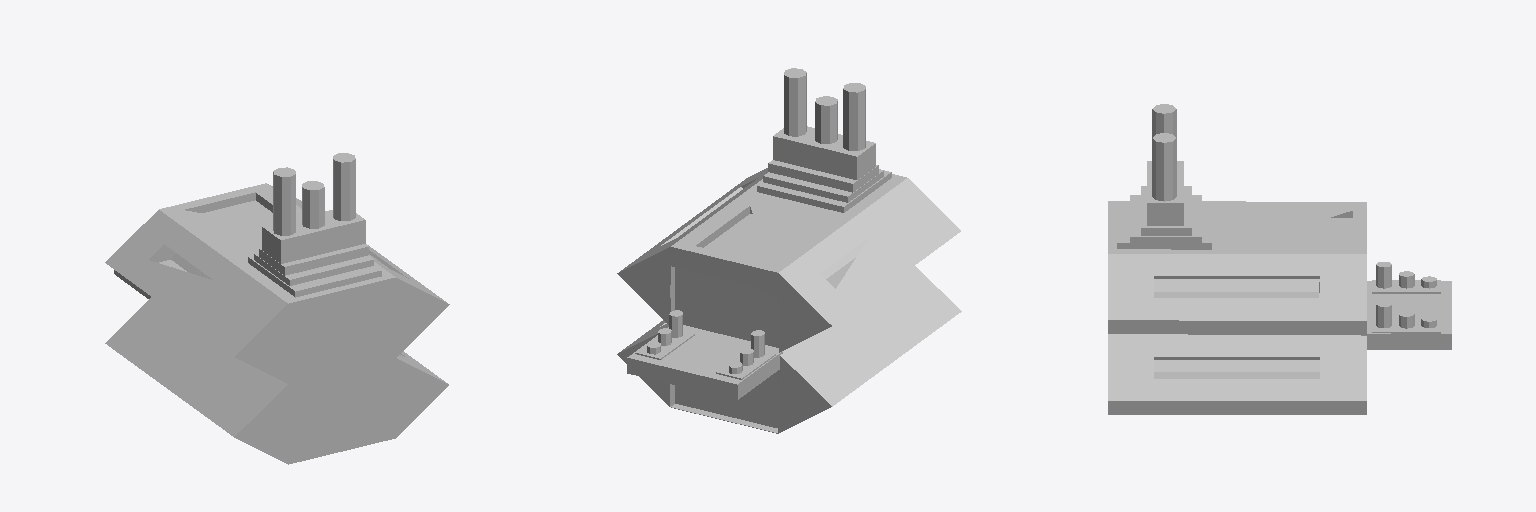
File: Stage 2 ship hanger OBJ.obj
3 renders of one model, left to right at view 1: azimuth 30°, elevation 25°; view 2: azimuth 150°, elevation 25°; view 3: azimuth 270°, elevation 25°, orthographic.
Visible parts, largest first — view 1: pCube7, pasted__pCylinder4 group11, group14 pasted__pasted__pasted__pasted__pCube4 pasted__pasted__p, group14 pasted__pasted__pasted__pCylinder5 pasted__pasted__group, pasted__pCube4 group14, group14 pasted__pasted__pasted__pCube4 pasted__pasted__group5 pa, group14 pasted__pasted__pCube4 pasted__group5, group14 pasted__pasted__pCylinder5 pasted__group10; view 2: pCube7, pasted__pCylinder4 group11, pCube5, group14 pasted__pasted__pasted__pasted__pCube4 pasted__pasted__p, group14 pasted__pasted__pasted__pCylinder5 pasted__pasted__group, group14 pasted__pasted__pasted__pCube4 pasted__pasted__group5 pa, pasted__pCube4 group14, group14 pasted__pasted__pCube4 pasted__group5, group14 pasted__pasted__pCylinder5 pasted__group10; view 3: pCube7, pasted__pCylinder4 group11, pCube5, group14 pasted__pasted__pasted__pCylinder5 pasted__pasted__group, pasted__pCube4 group14, group14 pasted__pasted__pasted__pasted__pCube4 pasted__pasted__p, group14 pasted__pasted__pCube4 pasted__group5, group14 pasted__pasted__pasted__pCube4 pasted__pasted__group5 pa, polySurface7 polySurface19, pasted__polySurface7 group13 pasted__polySurface19.
Part boxes in pixels (bbox=[...]): pCube7: bbox=[105, 183, 449, 383]; pasted__pCylinder4 group11: bbox=[105, 297, 448, 464]; group14 pasted__pasted__pasted__pasted__pCube4 pasted__pasted__p: bbox=[262, 210, 365, 263]; group14 pasted__pasted__pasted__pCylinder5 pasted__pasted__group: bbox=[273, 153, 355, 235]; pasted__pCube4 group14: bbox=[248, 255, 381, 297]; group14 pasted__pasted__pasted__pCube4 pasted__pasted__group5 pa: bbox=[259, 244, 368, 275]; group14 pasted__pasted__pCube4 pasted__group5: bbox=[254, 253, 373, 285]; group14 pasted__pasted__pCylinder5 pasted__group10: bbox=[302, 181, 324, 228]; pCube7: bbox=[617, 168, 960, 352]; pasted__pCylinder4 group11: bbox=[617, 266, 961, 433]; pCube5: bbox=[627, 327, 782, 399]; group14 pasted__pasted__pasted__pasted__pCube4 pasted__pasted__p: bbox=[773, 126, 875, 179]; group14 pasted__pasted__pasted__pCylinder5 pasted__pasted__group: bbox=[784, 68, 865, 150]; group14 pasted__pasted__pasted__pCube4 pasted__pasted__group5 pa: bbox=[768, 160, 878, 192]; pasted__pCube4 group14: bbox=[757, 169, 891, 212]; group14 pasted__pasted__pCube4 pasted__group5: bbox=[763, 170, 883, 202]; group14 pasted__pasted__pCylinder5 pasted__group10: bbox=[815, 96, 837, 143]; pCube7: bbox=[1108, 201, 1366, 334]; pasted__pCylinder4 group11: bbox=[1108, 334, 1366, 414]; pCube5: bbox=[1361, 281, 1451, 349]; group14 pasted__pasted__pasted__pCylinder5 pasted__pasted__group: bbox=[1152, 104, 1176, 201]; pasted__pCube4 group14: bbox=[1117, 201, 1211, 249]; group14 pasted__pasted__pasted__pasted__pCube4 pasted__pasted__p: bbox=[1147, 161, 1183, 225]; group14 pasted__pasted__pCube4 pasted__group5: bbox=[1130, 195, 1201, 242]; group14 pasted__pasted__pasted__pCube4 pasted__pasted__group5 pa: bbox=[1141, 186, 1191, 235]; polySurface7 polySurface19: bbox=[1372, 319, 1440, 333]; pasted__polySurface7 group13 pasted__polySurface19: bbox=[1372, 280, 1440, 293].
Bounding box in the file's own units: 17.6 × 20.78 × 24.4.